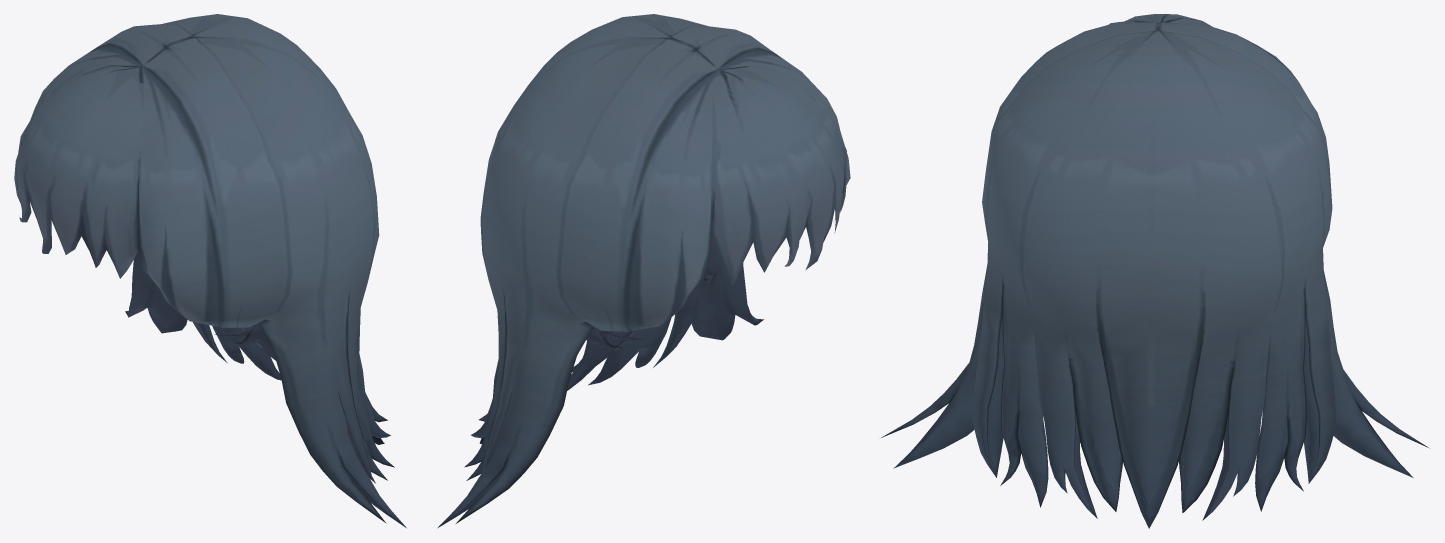
The model's file is hair_long_blue.gltf.
The picture shows the model from 3 angles, left to right: view 1: azimuth 30°, elevation 25°; view 2: azimuth 150°, elevation 25°; view 3: azimuth 270°, elevation 25°; orthographic projection. The views are drawn at different scales.
Visible parts, largest first — view 1: Milady_hair; view 2: Milady_hair; view 3: Milady_hair.
Boxes of the visible parts, x1,y1,x2,y2 form: Milady_hair: [14, 14, 406, 527]; Milady_hair: [437, 14, 850, 528]; Milady_hair: [881, 14, 1429, 528].
Size of the model in its own units: 0.6756 by 0.8158 by 0.9877.
Materials: 1 (1 with a texture image).
